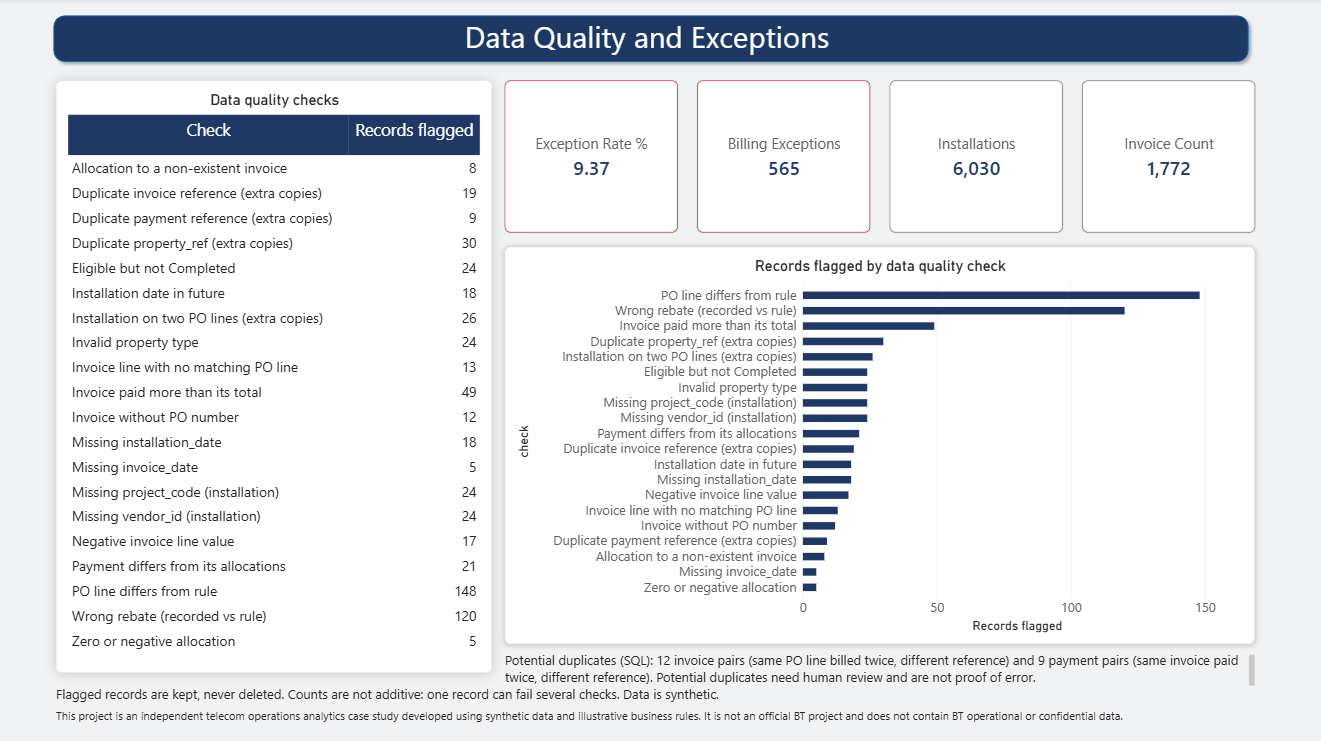

What the dashboard file says about the page in this screenshot:
{"tool":"powerbi","page":{"name":"5 Data Quality and Exceptions","canvas":[1920,1080],"ordinal":4},"visuals":[{"type":"clusteredBarChart","title":"Records flagged by data quality check","fields":{"Category":["dq_summary.check"],"Y":["Sum(dq_summary.records_flagged)"]},"box":[736.5,360.1,1085.8,575.5],"z":0},{"type":"tableEx","title":"Data quality checks","fields":{"Values":["dq_summary.check","Sum(dq_summary.records_flagged)"]},"box":[86.9,119.4,631.6,857.8],"z":1000},{"type":"textbox","box":[736.5,948.3,1085.8,47.1],"z":2000},{"type":"textbox","box":[86.9,995.3,1339.1,32.6],"z":3000},{"type":"shape","box":[74.2,16.3,1748.1,85.1],"z":4000},{"type":"textbox","box":[678.6,25.3,989.9,94.1],"z":5000},{"type":"textbox","box":[86.9,1027.9,1563.5,38],"z":6000},{"type":"cardVisual","fields":{"Data":["_Measures.Installations"]},"box":[1293.9,119.4,250,220],"z":7000},{"type":"cardVisual","fields":{"Data":["_Measures.Billing Exceptions"]},"box":[1015.2,119.4,250,220],"z":8000},{"type":"cardVisual","fields":{"Data":["_Measures.Invoice Count"]},"box":[1572.6,119.4,250,220],"z":9000},{"type":"cardVisual","fields":{"Data":["_Measures.Exception Rate %"]},"box":[736.5,119.4,250,220],"z":10000}]}

Visuals, with their boxes in screenshot pixels (x1, y1, x2, y2), scaled from the page's 1920x1080 canvas onto the 1321x741 screenshot:
"Records flagged by data quality check" clusteredBarChart: rect(507, 247, 1254, 642)
"Data quality checks" tableEx: rect(60, 82, 494, 670)
textbox: rect(507, 651, 1254, 683)
textbox: rect(60, 683, 981, 705)
shape: rect(51, 11, 1254, 70)
textbox: rect(467, 17, 1148, 82)
textbox: rect(60, 705, 1136, 731)
cardVisual - _Measures.Installations: rect(890, 82, 1062, 233)
cardVisual - _Measures.Billing Exceptions: rect(698, 82, 870, 233)
cardVisual - _Measures.Invoice Count: rect(1082, 82, 1254, 233)
cardVisual - _Measures.Exception Rate %: rect(507, 82, 679, 233)
